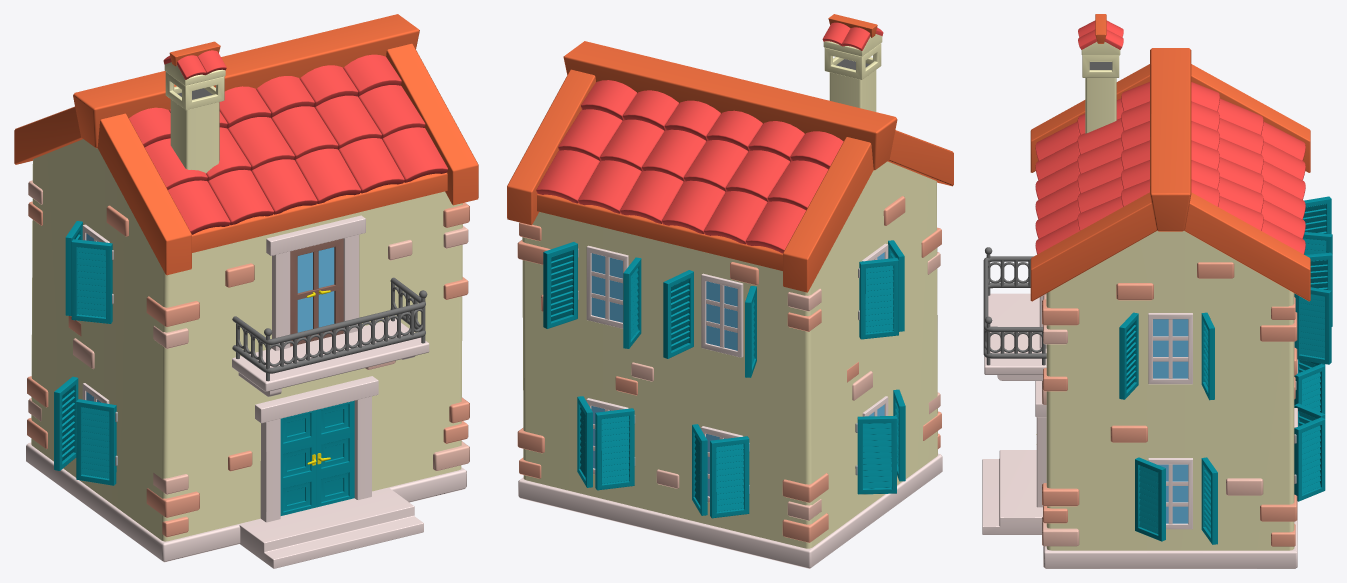
Rendered from City_11_House_1.glb.
The picture shows the model from 3 angles, left to right: view 1: azimuth 30°, elevation 25°; view 2: azimuth 150°, elevation 25°; view 3: azimuth 270°, elevation 25°; orthographic projection. The views are drawn at different scales.
Visible parts, largest first — view 1: City_11_House_1; view 2: City_11_House_1; view 3: City_11_House_1.
Boxes of the visible parts, x1,y1,x2,y2 form: City_11_House_1: (14, 14, 478, 568); City_11_House_1: (507, 14, 953, 568); City_11_House_1: (982, 14, 1332, 568).
Size of the model in its own units: 8.2 by 10.1 by 7.33.
1 material, 1 textured.
